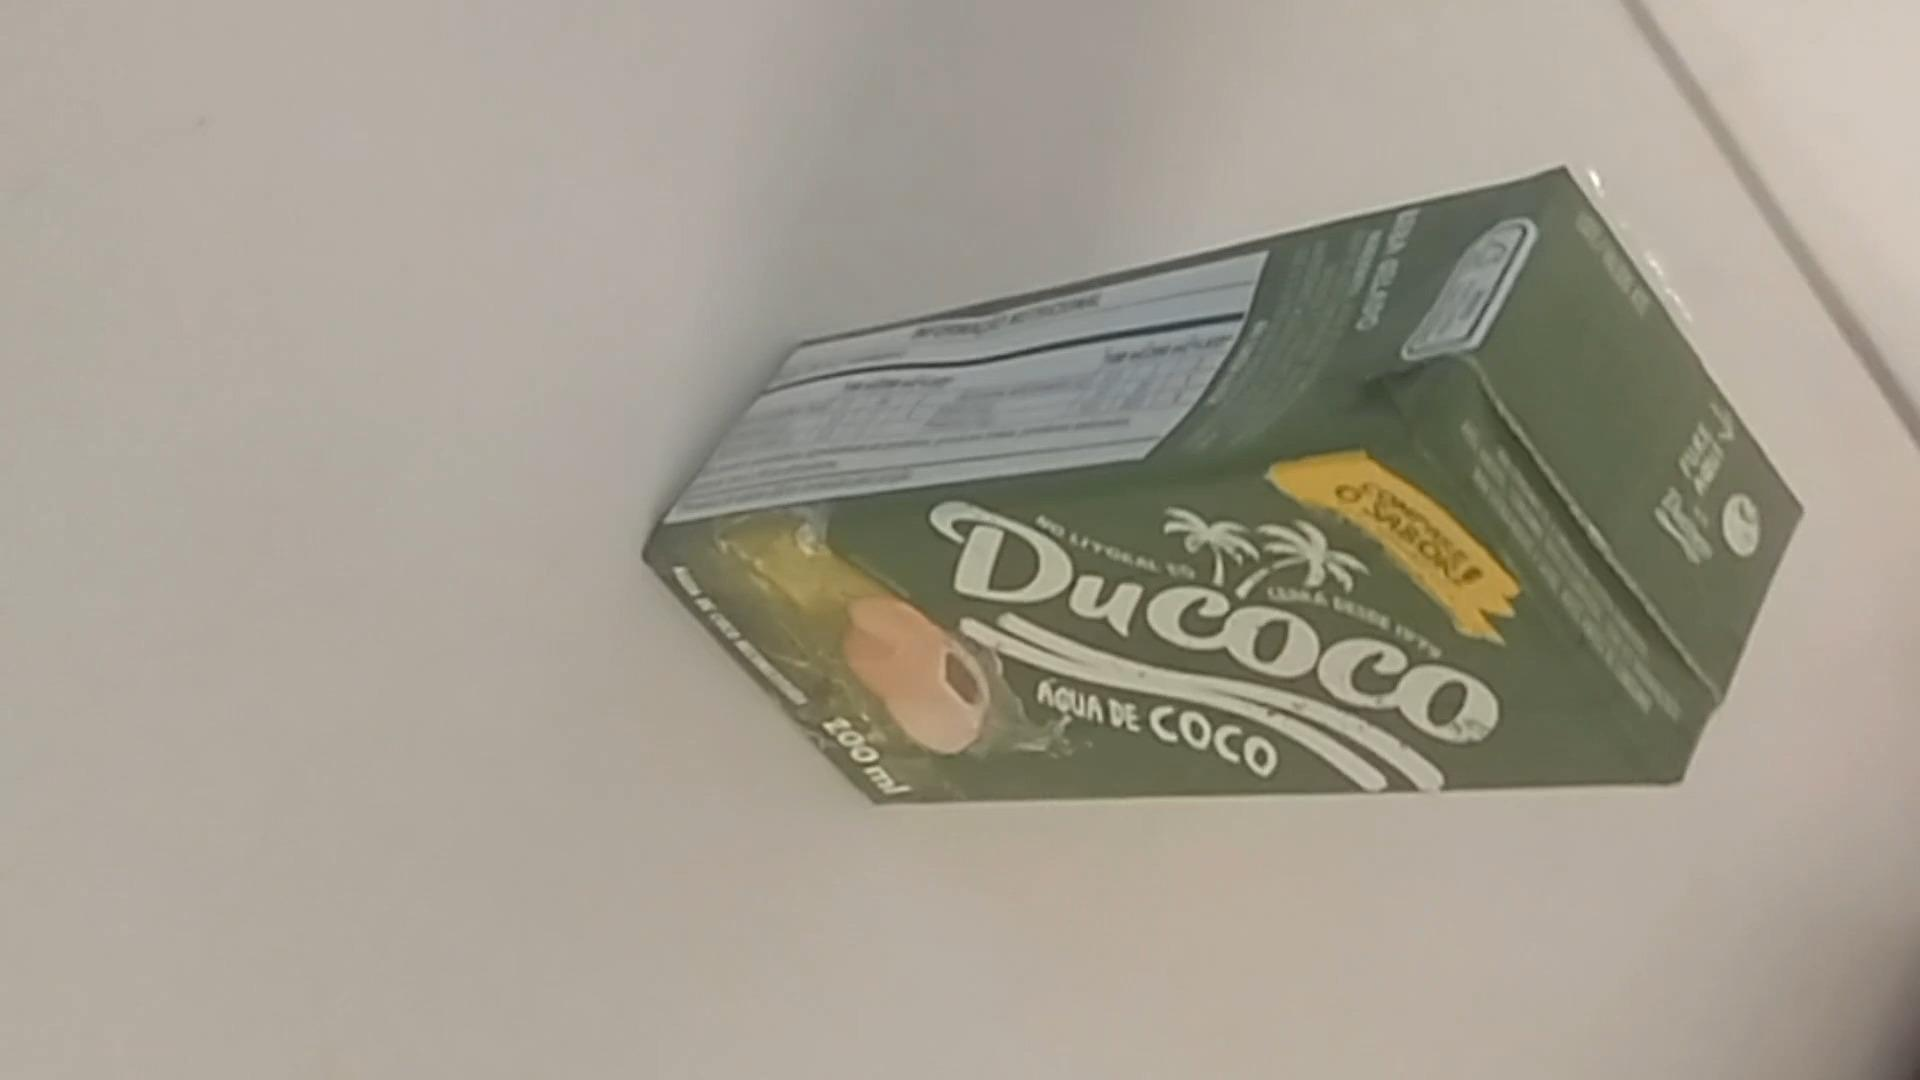coco: (650, 167, 1803, 811)
